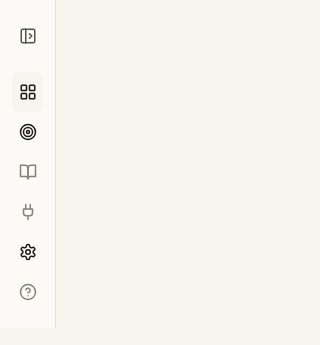
Test: CompanyNav › lets the estimator override the collapse in either direction
This screenshot has width=320, height=345.
Click the button named "expand navigation" at {"x": 28, "y": 36}, box [8,16,48,56]
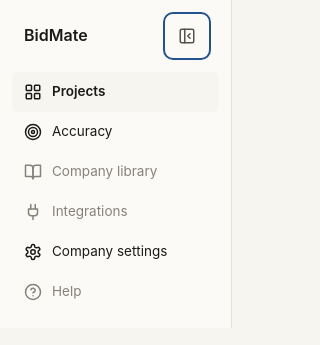
Check: the text "BidMate" is shown, box [24,24,88,48]
Check: the button named "collapse navigation" is shown, box [167,16,207,56]
